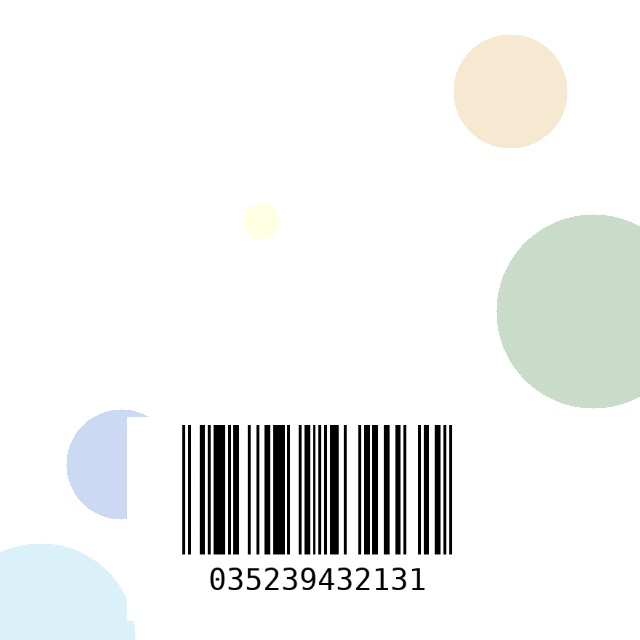barcode: (127, 417, 507, 621)
